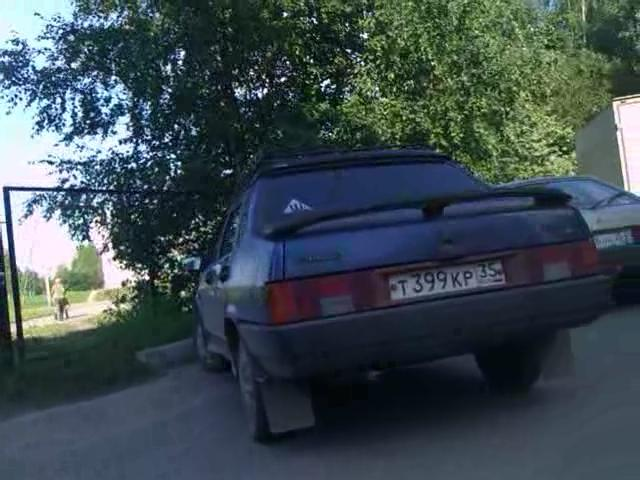car license plate: (389, 253, 510, 303)
